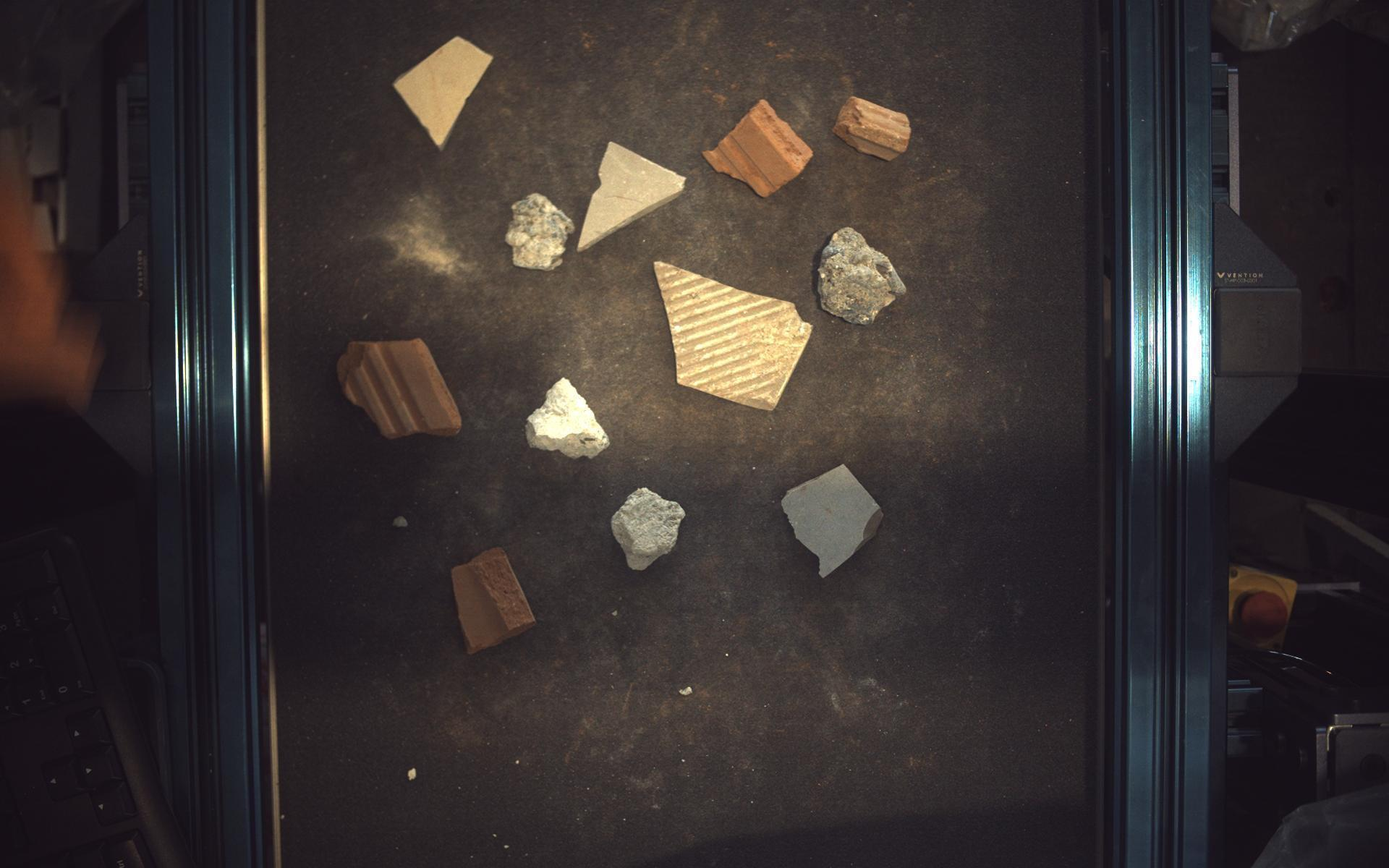brick: (336, 339, 462, 439), (704, 98, 814, 196), (451, 548, 536, 655), (835, 96, 913, 160)
concrete: (819, 226, 908, 324), (527, 378, 611, 459), (612, 488, 686, 571), (506, 192, 574, 270)
tile: (656, 261, 813, 411), (578, 141, 686, 250), (783, 464, 885, 578), (394, 35, 493, 148)
